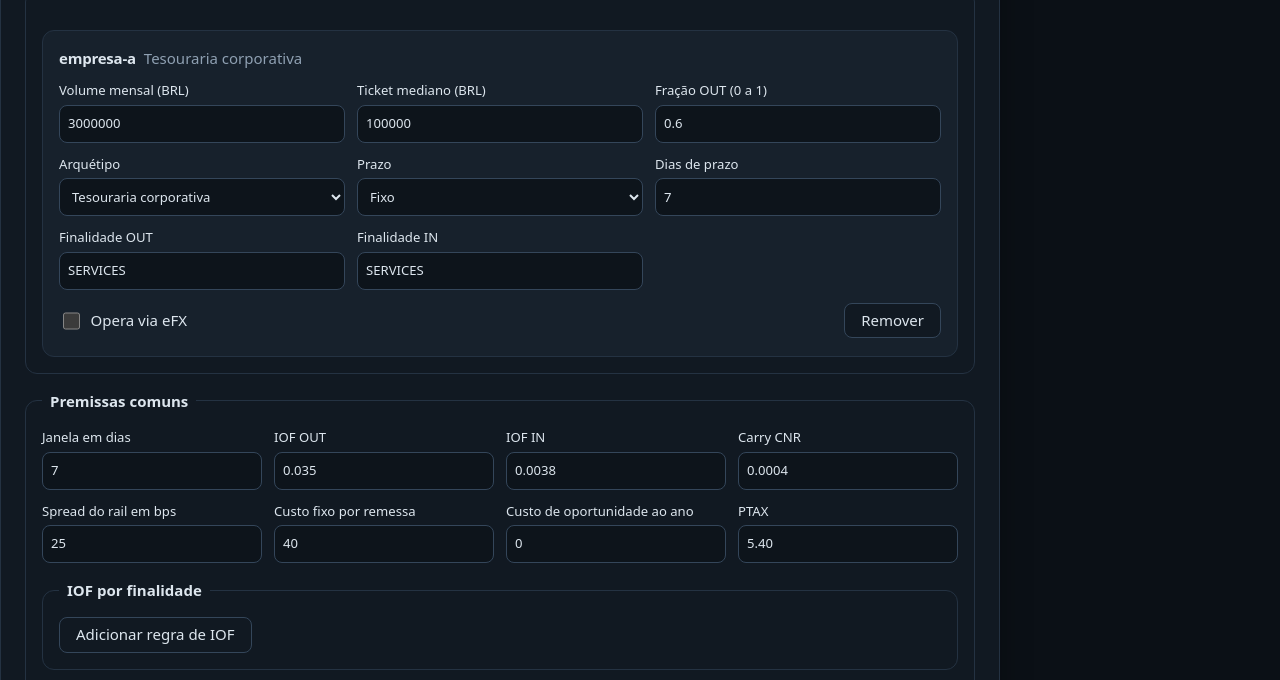
CompositionHypothesisBuilder › bloqueia nome vazio, nenhuma mudança e remoção do último participante
(page scrolled)
Click the button named "remover empresa-a".
click(893, 321)  # box x1=844 y1=303 x2=941 y2=338
(page scrolled)
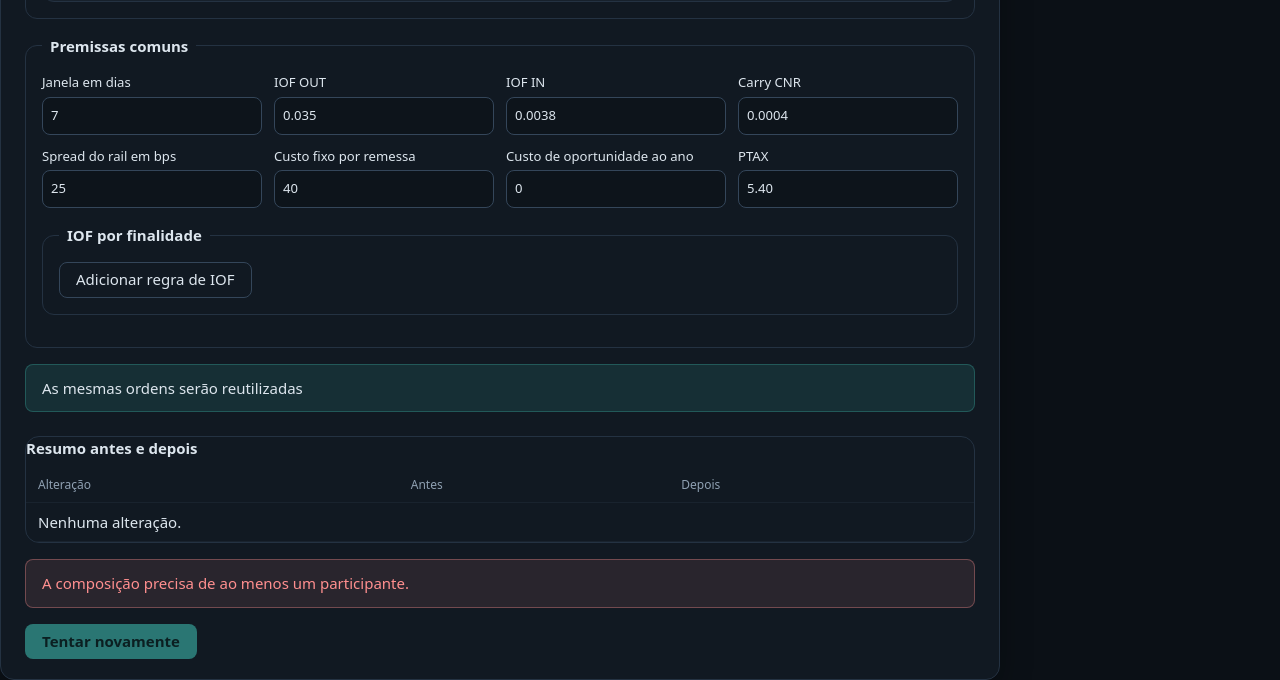
Check: the message "A composição precisa de ao menos um participante." is shown, box x1=25 y1=559 x2=975 y2=608
